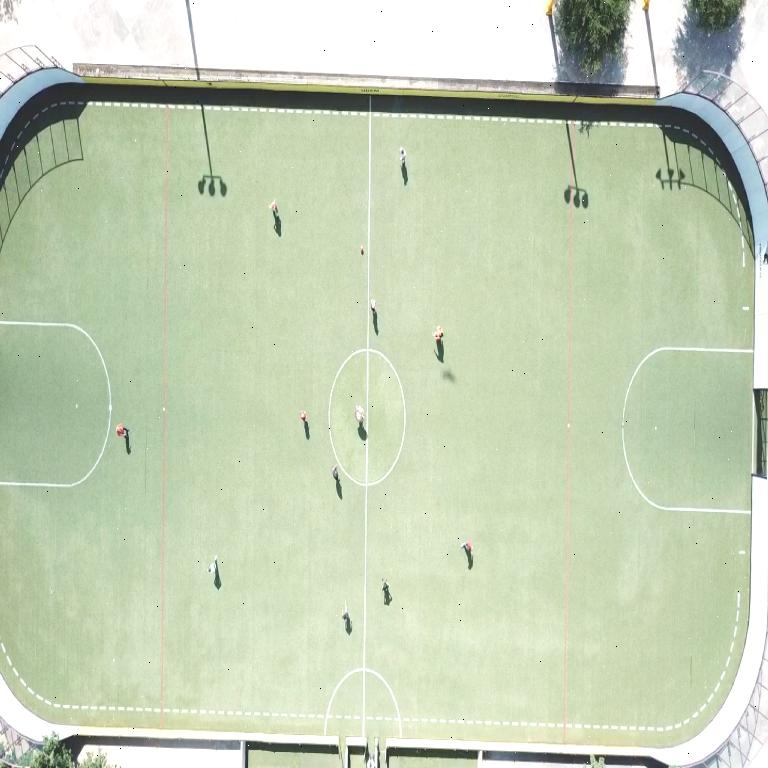AC: (622, 347, 752, 514), (0, 320, 112, 488)
B: (361, 245, 364, 253)
MC: (366, 96, 371, 419)
P: (115, 421, 130, 439), (208, 556, 217, 578), (270, 198, 278, 221), (354, 406, 364, 424), (381, 576, 391, 594), (461, 541, 472, 554), (433, 326, 442, 340), (343, 603, 349, 624), (400, 148, 406, 166), (332, 466, 338, 482), (300, 411, 307, 422), (371, 300, 376, 314)
